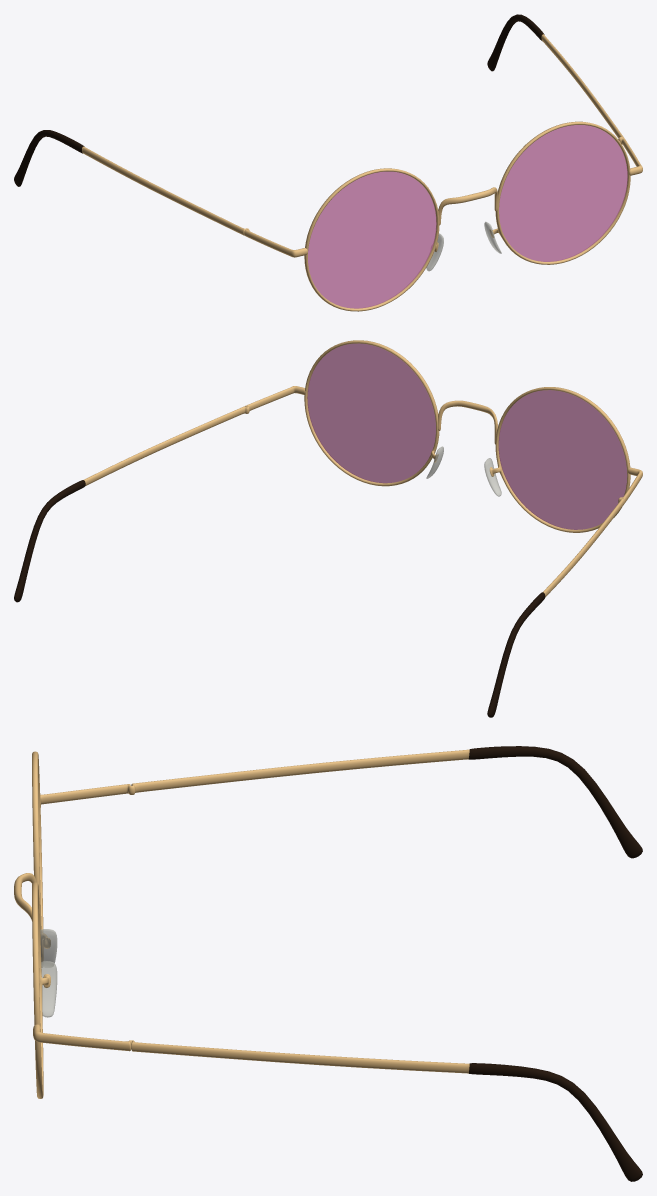
File: pink_round_sunglasses.glb
The picture shows the model from 3 angles, top to bottom: view 1: azimuth 30°, elevation 25°; view 2: azimuth 150°, elevation 25°; view 3: azimuth 270°, elevation 25°; orthographic projection. The views are drawn at different scales.
Visible parts, largest first — view 1: Cylinder.002, Cube.001, Cylinder.001, Cylinder.003; view 2: Cylinder.002, Cube.001, Cylinder.001, Cylinder.003; view 3: Cube.001, Cylinder.001, Cylinder.003.
Part boxes in pixels (box(x1,y1,x2,y2)): Cylinder.002: box(308, 125, 627, 308); Cube.001: box(14, 14, 642, 257); Cylinder.001: box(304, 121, 630, 311); Cylinder.003: box(426, 221, 501, 271); Cylinder.002: box(307, 343, 627, 529); Cube.001: box(14, 386, 642, 717); Cylinder.001: box(304, 340, 630, 532); Cylinder.003: box(426, 446, 501, 496); Cube.001: box(14, 746, 642, 1181); Cylinder.001: box(32, 751, 50, 1098); Cylinder.003: box(40, 929, 57, 1017).
Size of the model in its own units: 1.52 by 0.4252 by 1.23.
